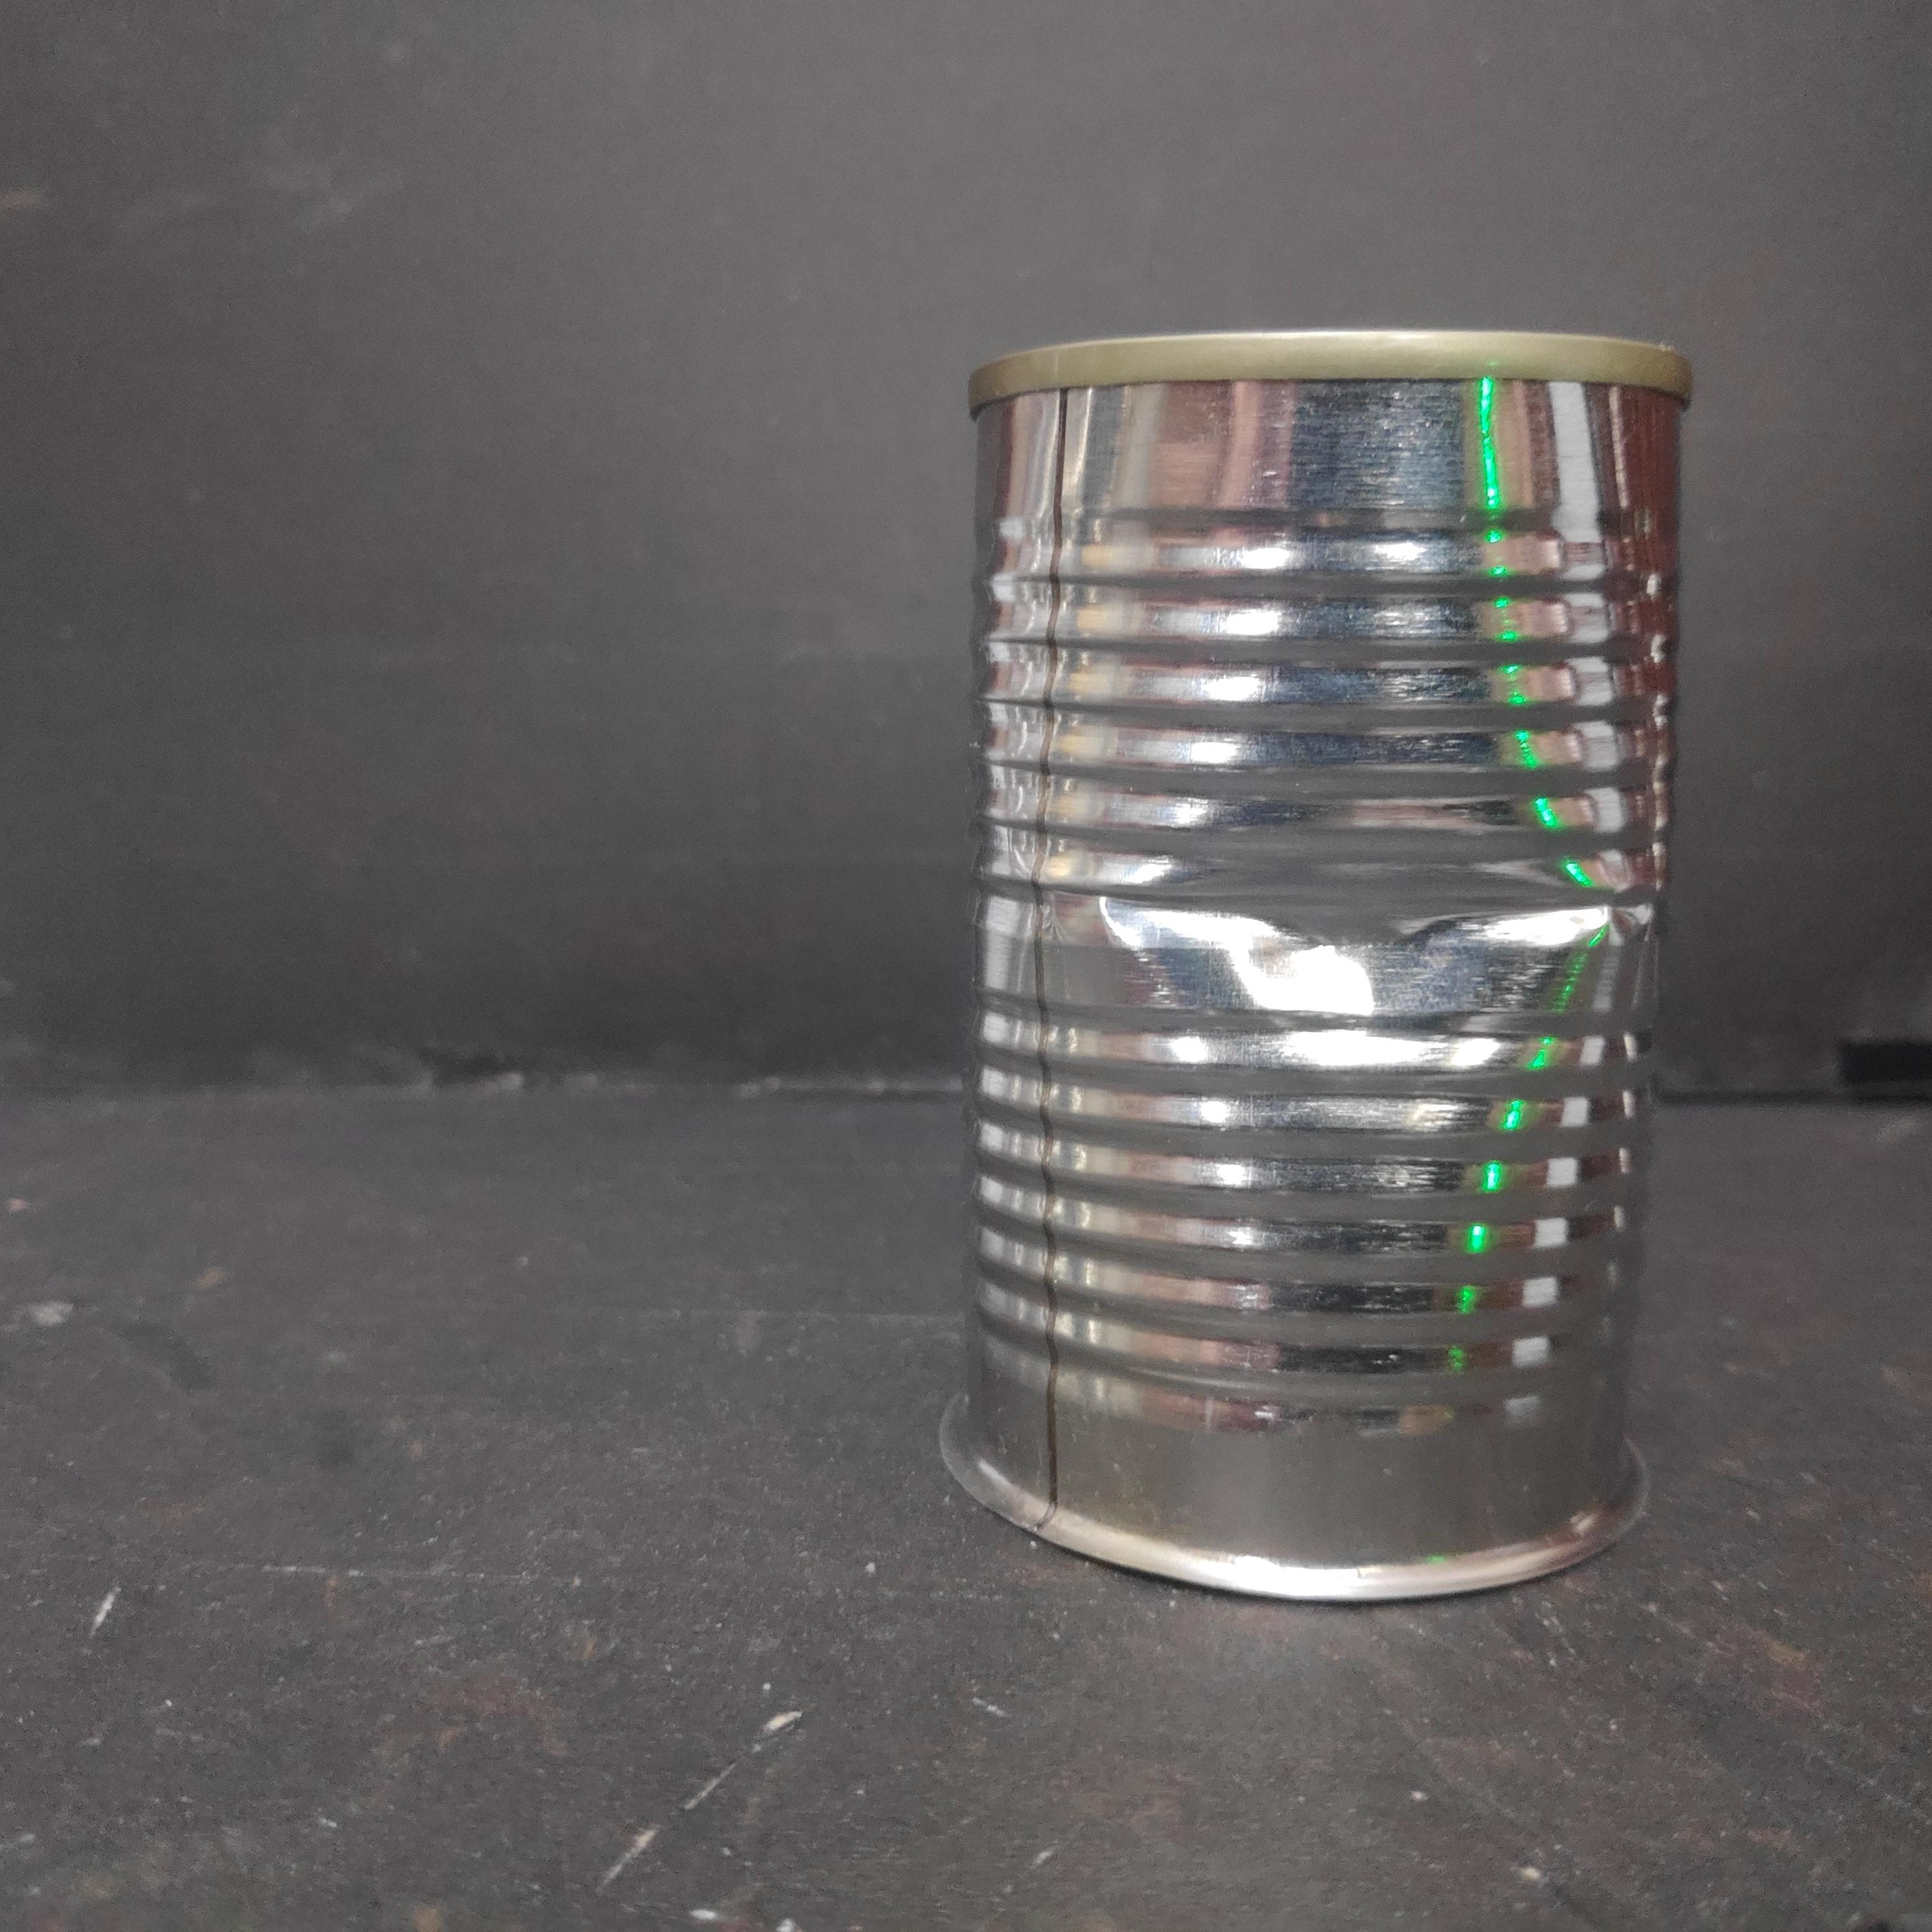Minor Defect: (950, 320, 1697, 1621)
